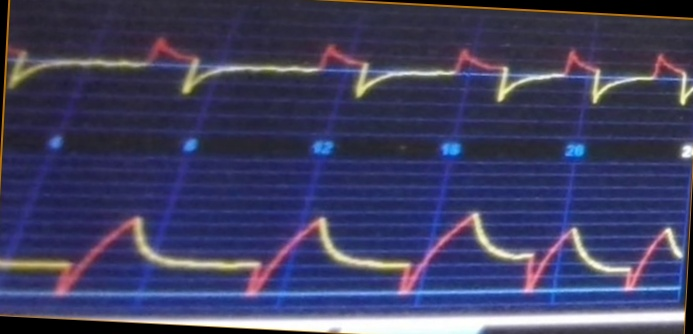Flow: (8, 28, 693, 128)
Leakage Volume: (1, 201, 683, 305)
